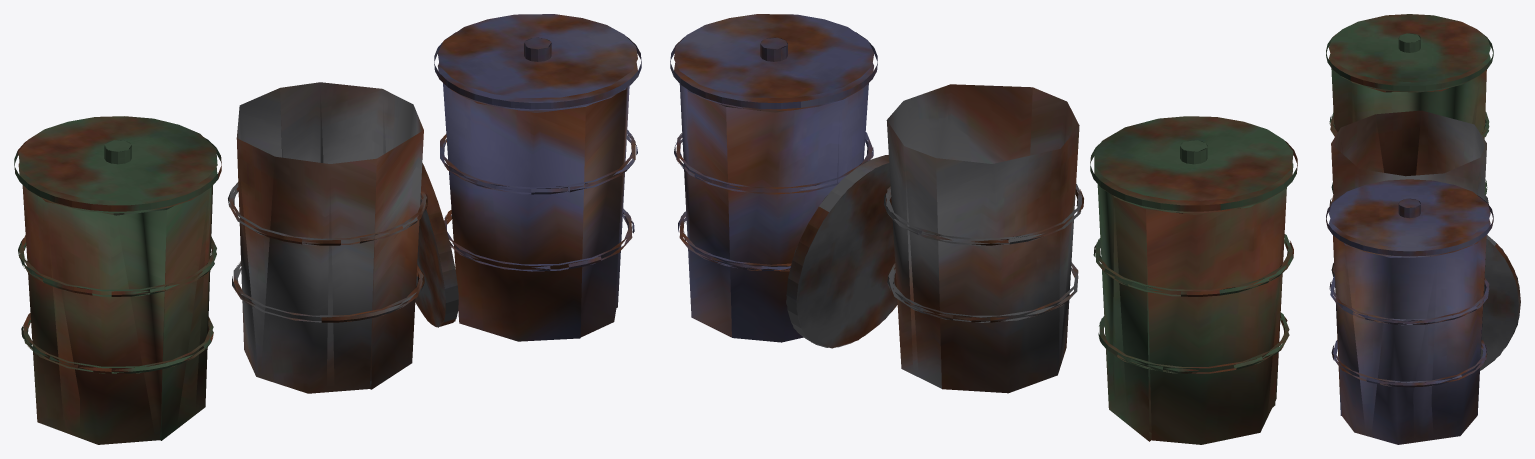
The model's file is ST07_TrashCans.glb.
The picture shows the model from 3 angles, left to right: view 1: azimuth 30°, elevation 25°; view 2: azimuth 150°, elevation 25°; view 3: azimuth 270°, elevation 25°; orthographic projection. The views are drawn at different scales.
Visible parts, largest first — view 1: ST07_TrashCans; view 2: ST07_TrashCans; view 3: ST07_TrashCans.
Boxes of the visible parts, x1,y1,x2,y2 form: ST07_TrashCans: (14,14,641,444); ST07_TrashCans: (670,14,1297,444); ST07_TrashCans: (1326,14,1520,444).
Size of the model in its own units: 0.8 by 0.336 by 0.2792.
Materials: 3 (3 with a texture image).
